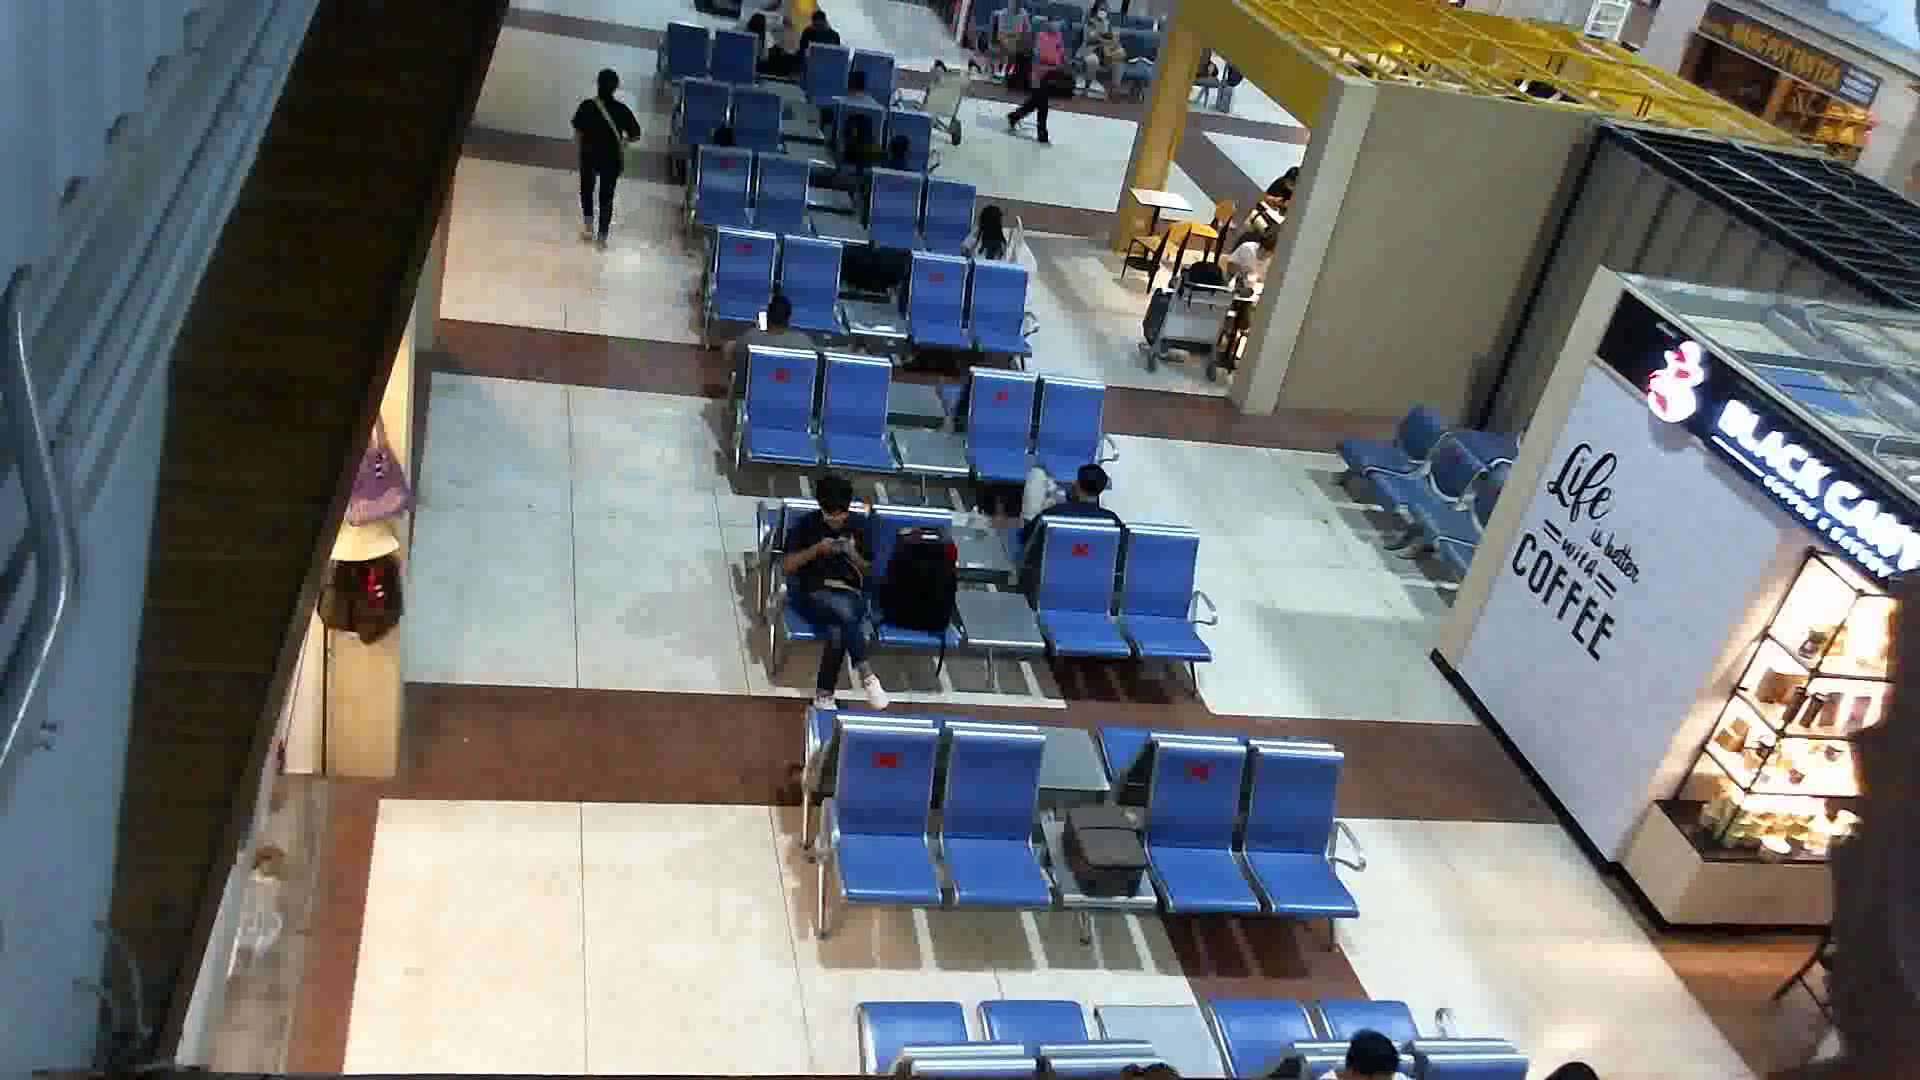bag: (1036, 67, 1084, 105)
luggage: (880, 514, 970, 652), (1045, 801, 1155, 902)
people: (775, 467, 893, 736), (561, 60, 652, 252), (1015, 10, 1081, 149)
